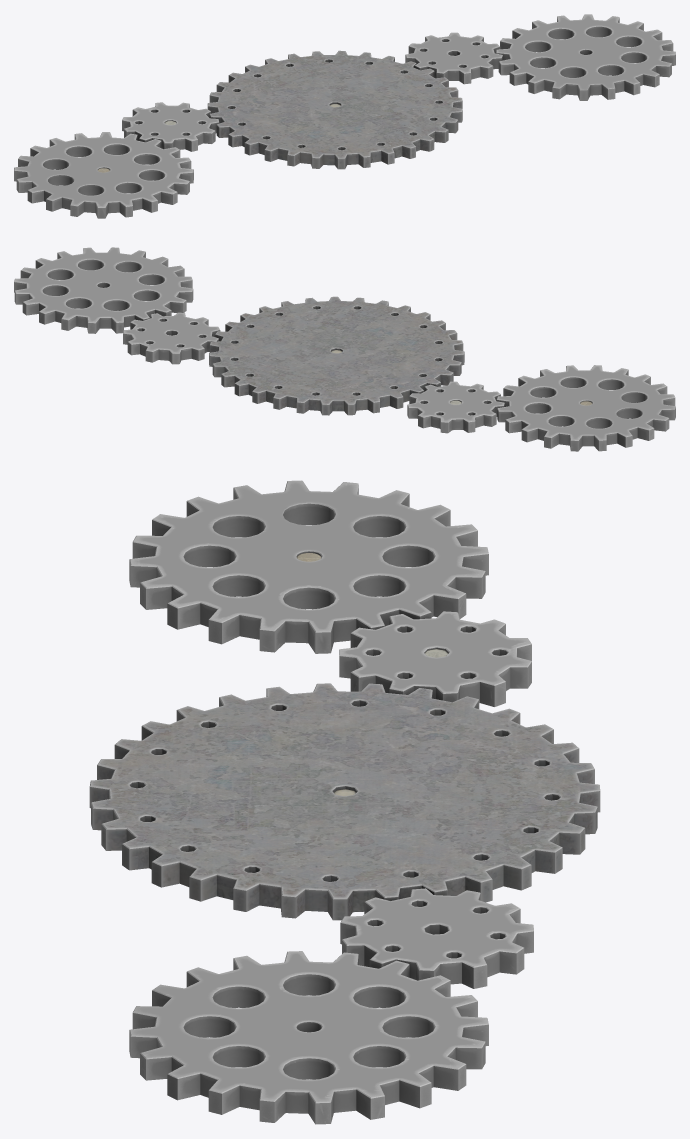
File: Cogwheels.fbx
3 renders of one model, top to bottom at view 1: azimuth 30°, elevation 25°; view 2: azimuth 150°, elevation 25°; view 3: azimuth 270°, elevation 25°, orthographic. The views are drawn at different scales.
Visible parts, largest first — view 1: Cogwheels; view 2: Cogwheels; view 3: Cogwheels.
Boxes of the visible parts, x1=… form: Cogwheels: x1=14, y1=14, x2=675, y2=218; Cogwheels: x1=14, y1=247, x2=675, y2=451; Cogwheels: x1=89, y1=480, x2=600, y2=1124.
Bounding box in the file's own units: 163 × 2.68 × 56.5.
